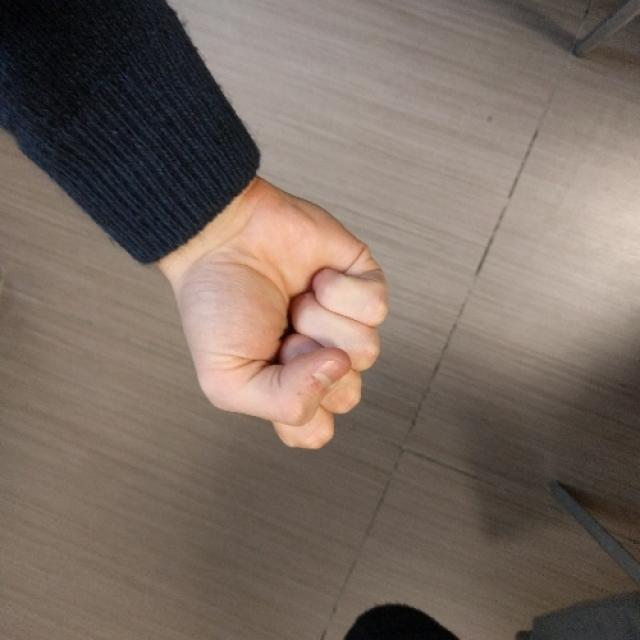rock: (189, 194, 392, 452)
